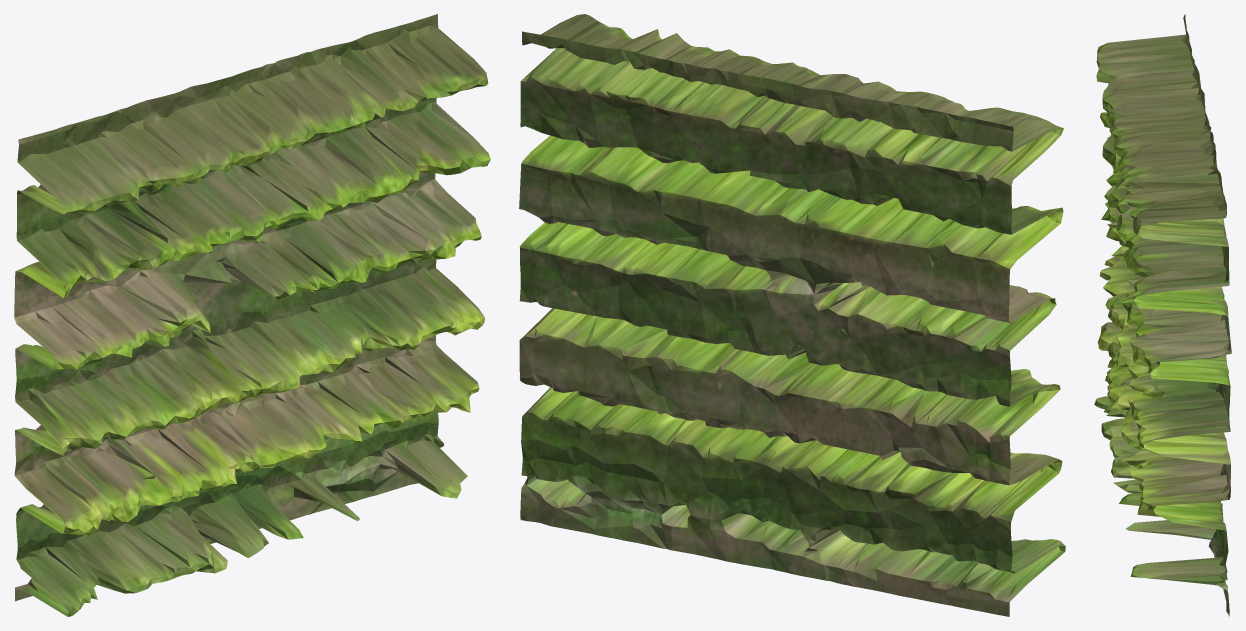
File: map_160_70.obj
3 renders of one model, left to right at view 1: azimuth 30°, elevation 25°; view 2: azimuth 150°, elevation 25°; view 3: azimuth 270°, elevation 25°, orthographic. The views are drawn at different scales.
Visible parts, largest first — view 1: grp1; view 2: grp1; view 3: grp1.
Boxes of the visible parts, <box> form: grp1: <box>14,14,490,616</box>; grp1: <box>519,14,1065,616</box>; grp1: <box>1094,14,1231,616</box>.
Size of the model in its own units: 10 by 10 by 3.04.
1 material, 1 textured.
